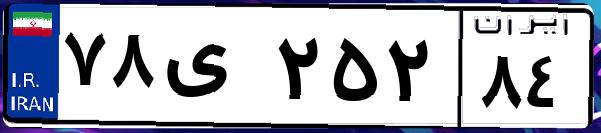2: (270, 28, 330, 110), (385, 28, 445, 110)
4: (525, 38, 570, 115)
5: (330, 28, 385, 110)
7: (57, 26, 110, 100)
8: (475, 38, 525, 113), (110, 28, 158, 98)
ی: (158, 20, 270, 120)
